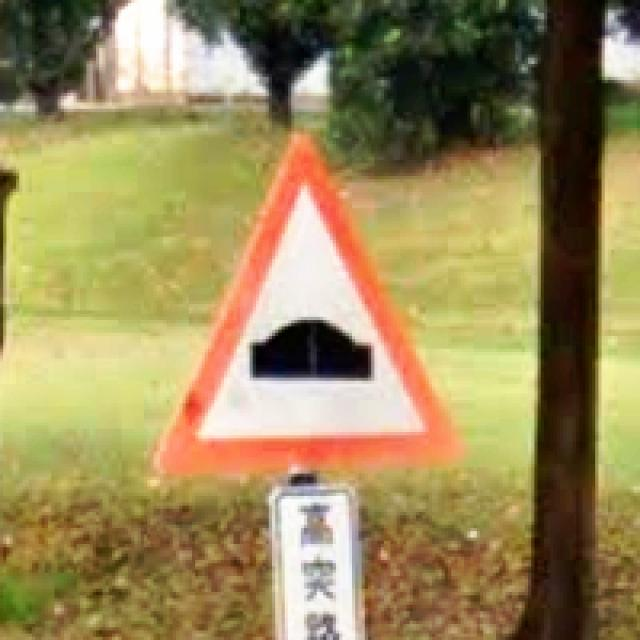hump: (156, 144, 459, 466)
